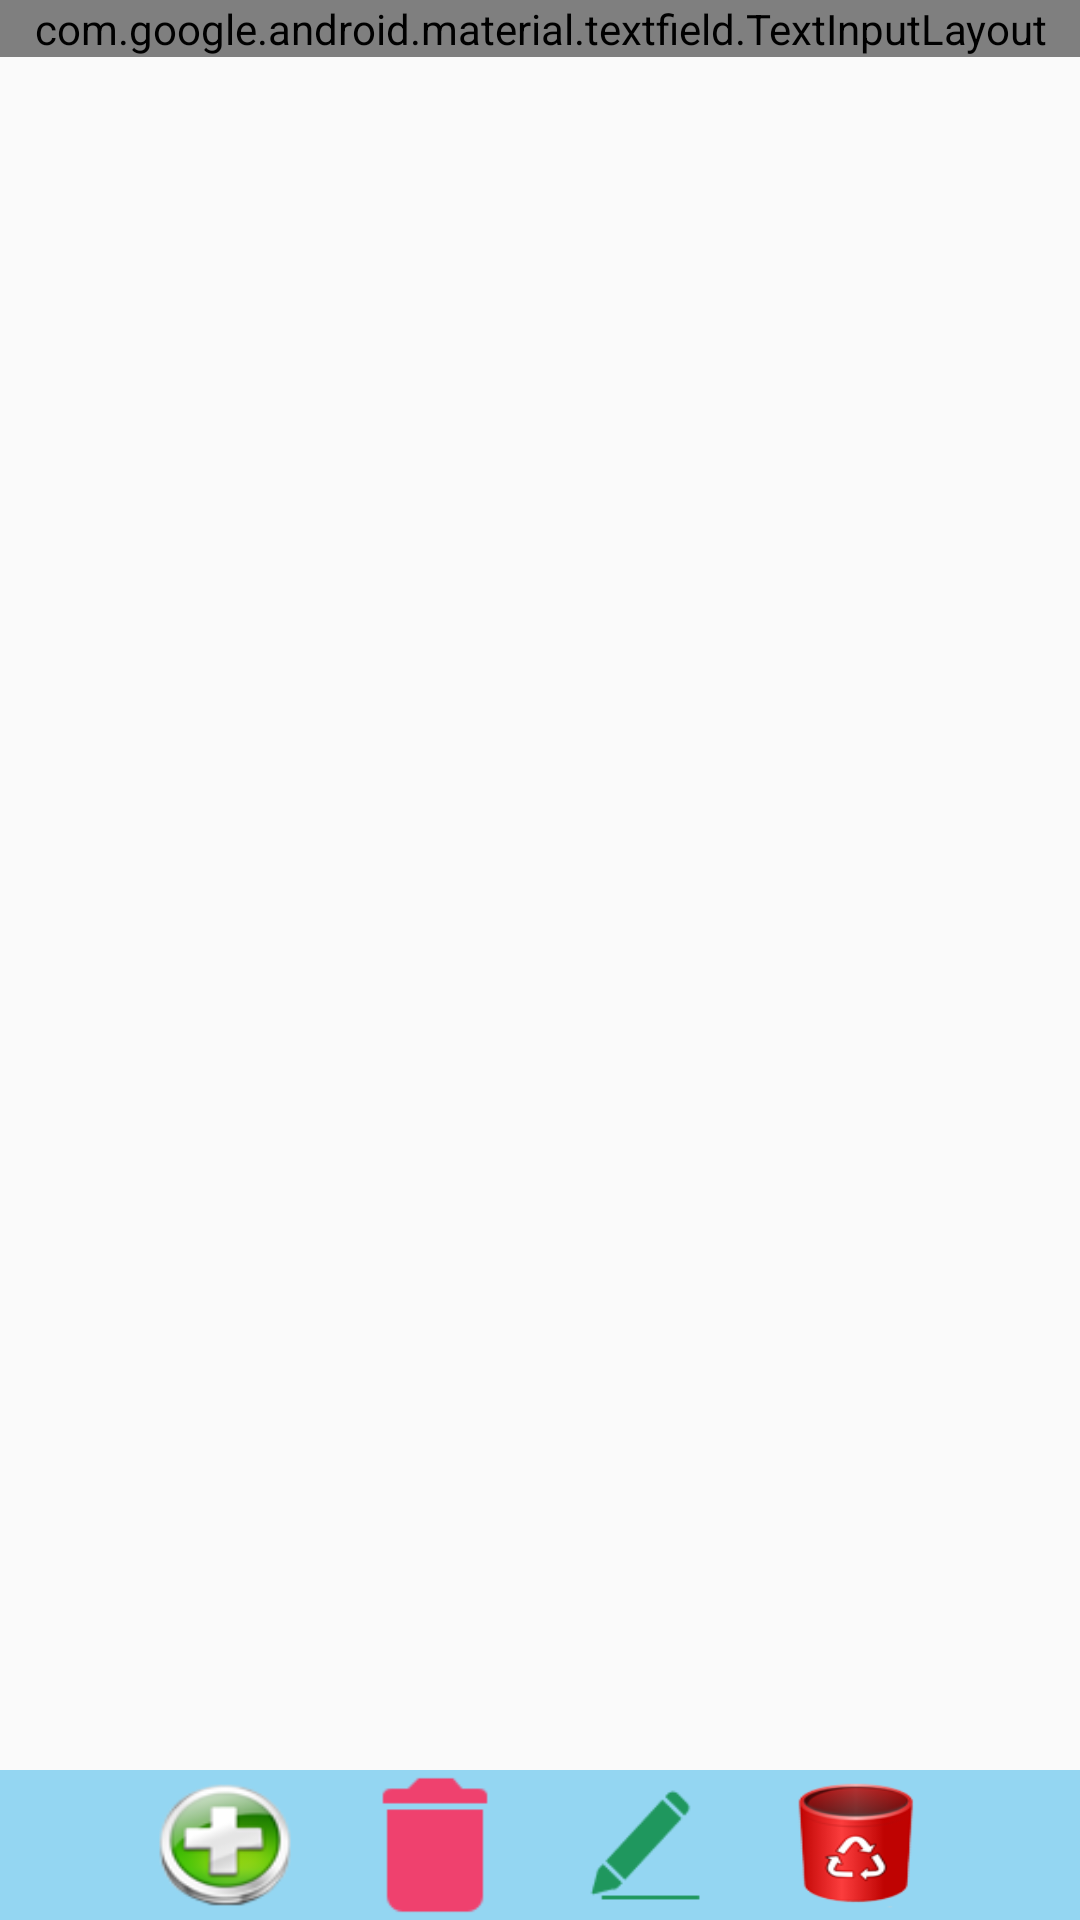

Icons on this 1080px×1920px Android screen, each with the point to tap as [x,y]:
addd: [225,1845]
delete all: [855,1843]
